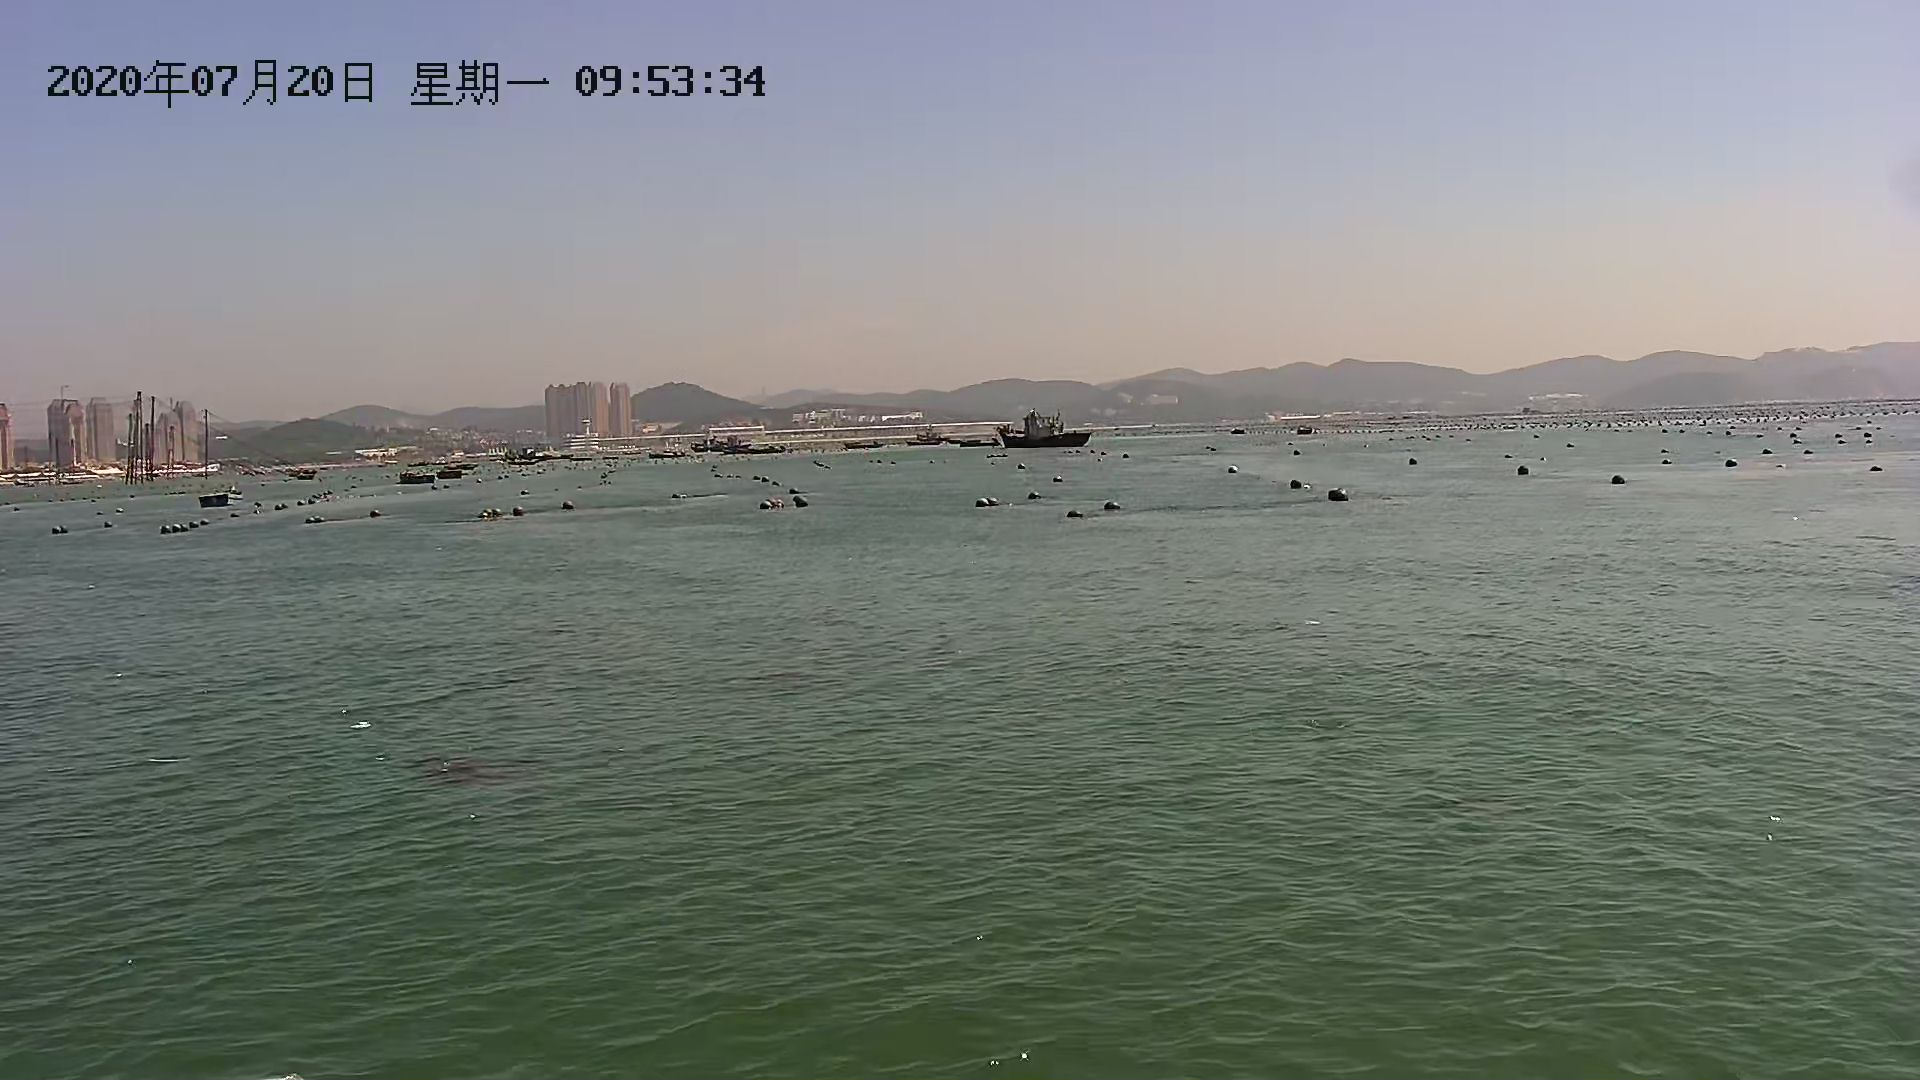ball: (977, 489, 1004, 508), (783, 493, 811, 510), (1320, 489, 1353, 501), (555, 498, 582, 513), (1098, 498, 1124, 513), (509, 505, 533, 518)
boat: (715, 435, 806, 459), (402, 464, 463, 487)
mast: (196, 402, 216, 488)
ship: (1002, 407, 1095, 448)
